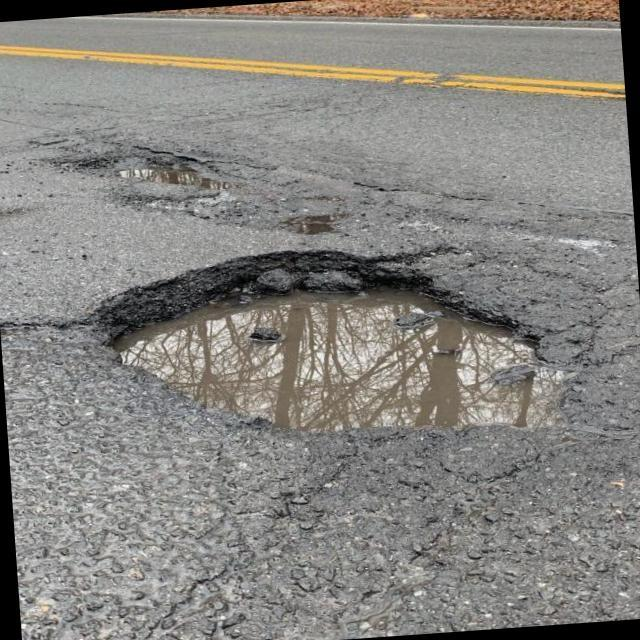Pothole: (97, 253, 612, 444), (70, 148, 346, 234)
